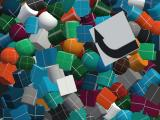Right: (89, 11, 139, 66)
